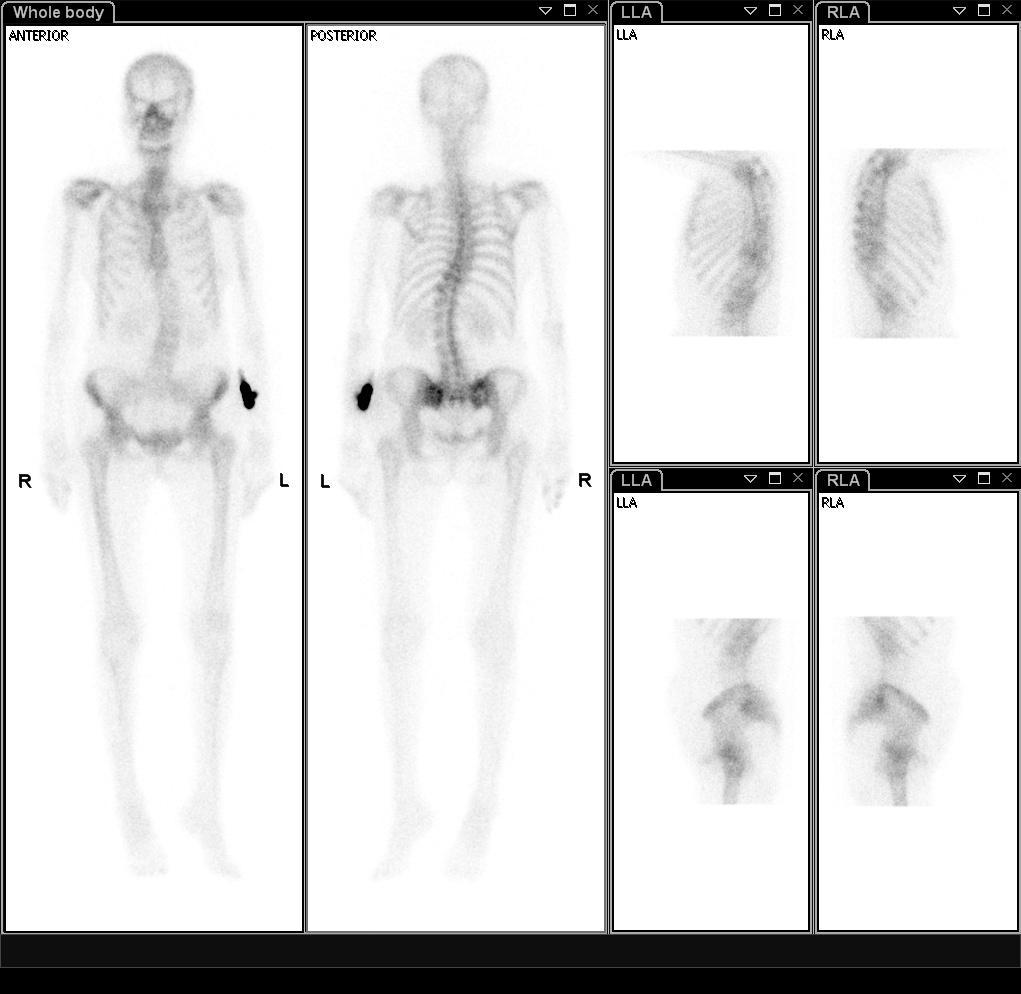person: (5, 25, 604, 934)
